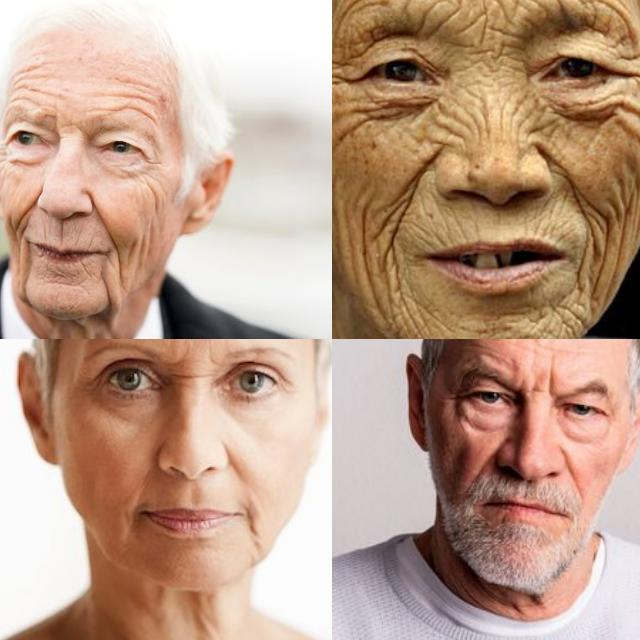bunny_line: (436, 104, 478, 150), (510, 100, 550, 142)
chin: (391, 304, 435, 339), (547, 306, 581, 339), (42, 270, 90, 292), (466, 321, 513, 339)
crows_feet: (136, 145, 170, 179), (445, 384, 467, 414), (332, 57, 349, 92), (630, 53, 640, 91), (0, 140, 11, 168)
forehead: (108, 83, 162, 119), (12, 64, 54, 108)
frown_line: (466, 0, 515, 65), (172, 361, 214, 385), (541, 365, 555, 399), (61, 117, 85, 135)
gummy_smile: (381, 154, 421, 240), (552, 156, 602, 208), (86, 196, 115, 242), (138, 444, 166, 480), (222, 446, 248, 482), (17, 190, 39, 232), (471, 446, 495, 476), (560, 451, 578, 482)
masseter: (619, 173, 640, 238), (332, 199, 354, 255), (133, 226, 161, 268), (143, 186, 169, 218)
sad_smile: (379, 249, 423, 281), (572, 245, 604, 283), (106, 246, 126, 298), (14, 236, 32, 280), (238, 503, 258, 537)
smoker_lines: (434, 212, 478, 238), (534, 216, 568, 240)
